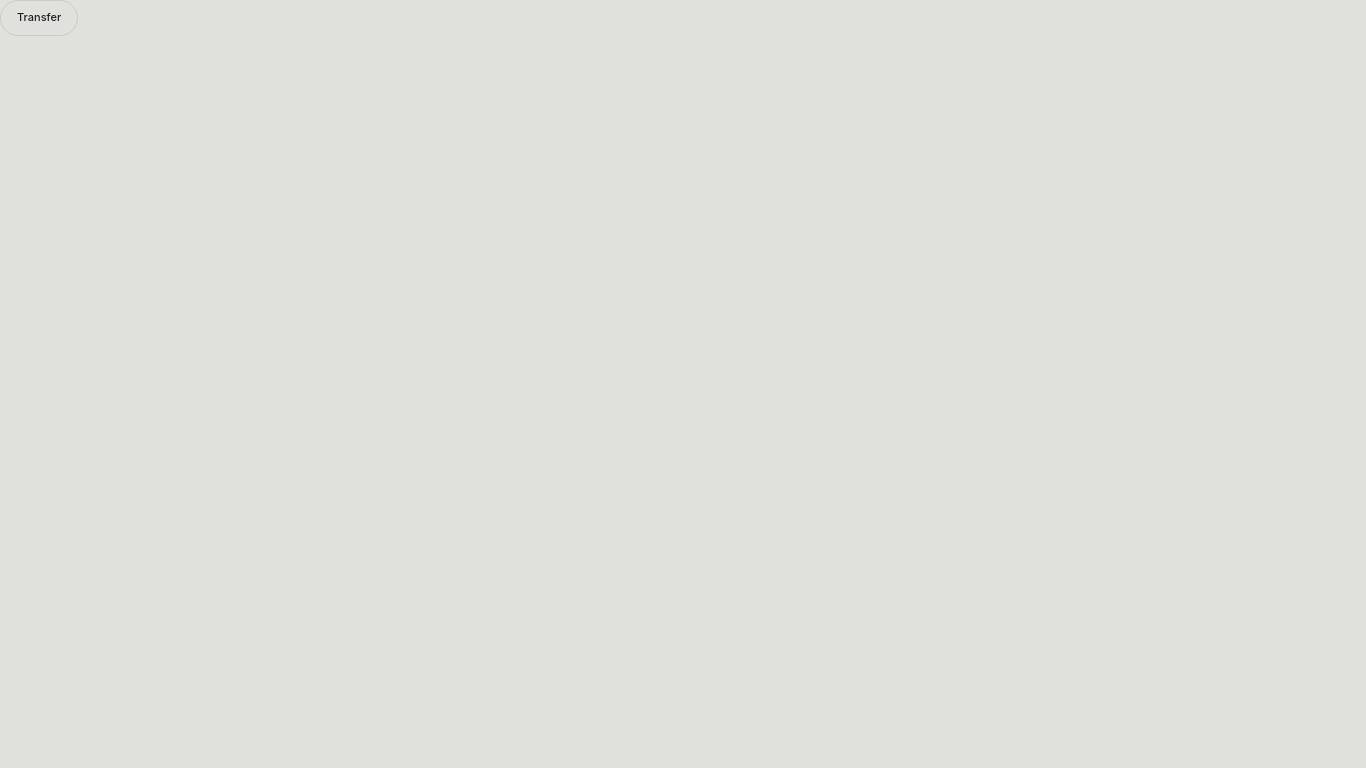
Test: preselects linked resources and sends only the ones kept for copy
Later steps or results of the test are not shown.
Click the button "Transfer" at (39, 18), box [0, 0, 78, 36]
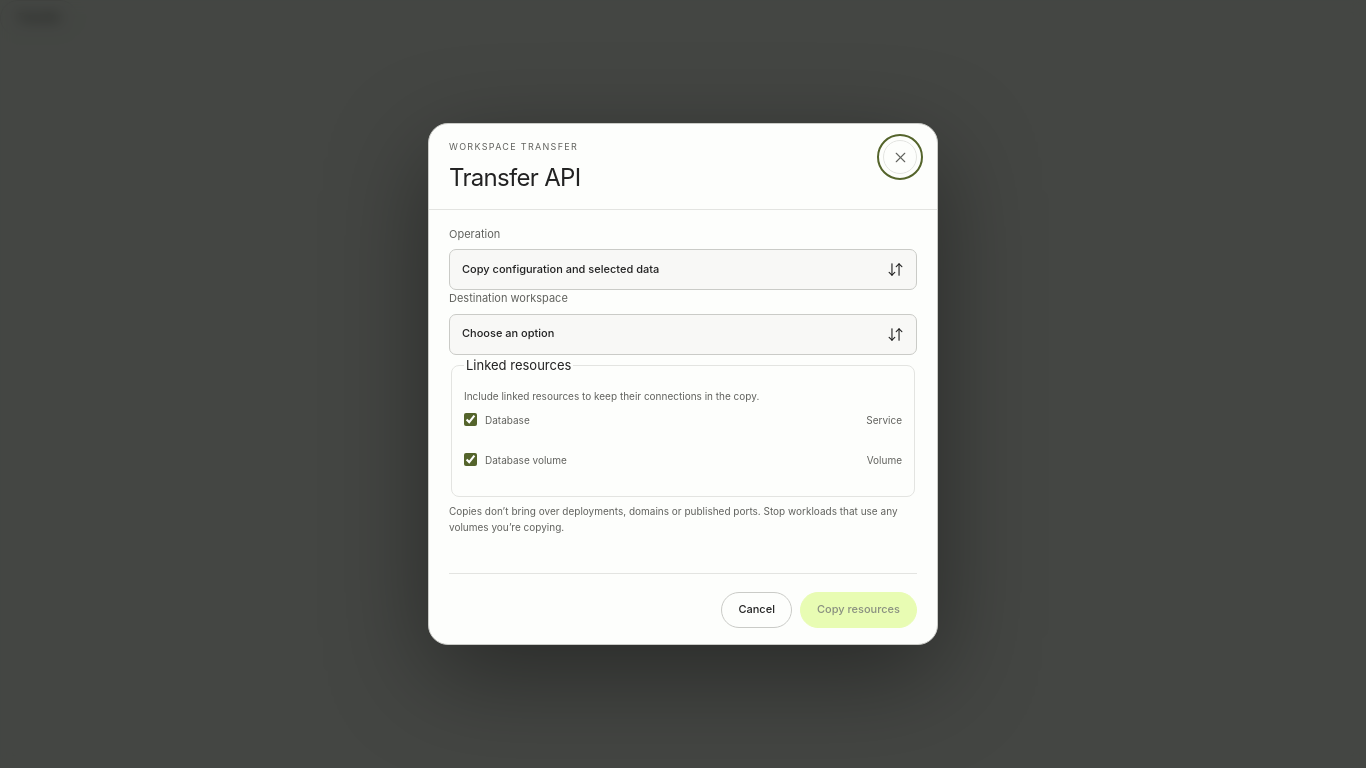
Expected: the checkbox labelled "Database Service" is checked, [464, 413, 477, 426]
Expected: the checkbox labelled "Database volume Volume" is checked, [464, 453, 477, 466]
